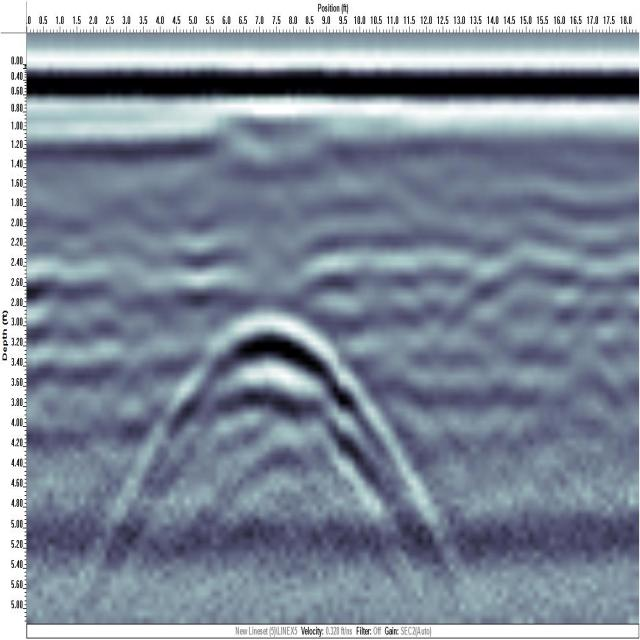hyperbola: (156, 304, 386, 476)
